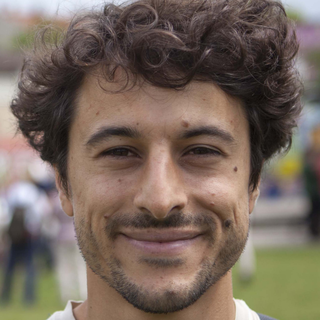eye: (168, 142, 232, 167), (90, 141, 144, 168)
